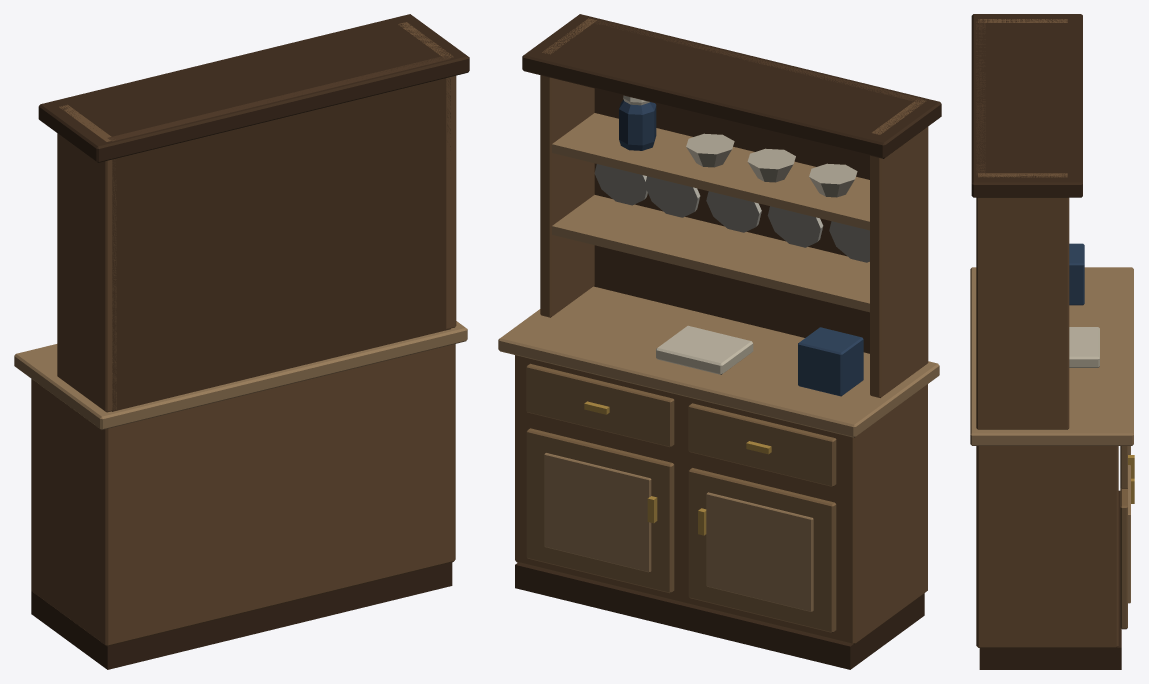
Rendered from prop_dresser.glb.
The picture shows the model from 3 angles, left to right: view 1: azimuth 30°, elevation 25°; view 2: azimuth 150°, elevation 25°; view 3: azimuth 270°, elevation 25°; orthographic projection. The views are drawn at different scales.
Parts seen in each view (by area): view 1: prop_dresser; view 2: prop_dresser; view 3: prop_dresser.
Part boxes in pixels (x1=…): prop_dresser: x1=14, y1=14, x2=469, y2=669; prop_dresser: x1=498, y1=14, x2=941, y2=669; prop_dresser: x1=970, y1=14, x2=1134, y2=669.
Bounding box in the file's own units: 1.3 × 1.76 × 0.532.
